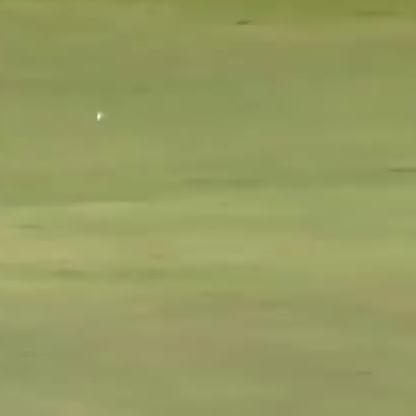golfball: (94, 108, 105, 119)
